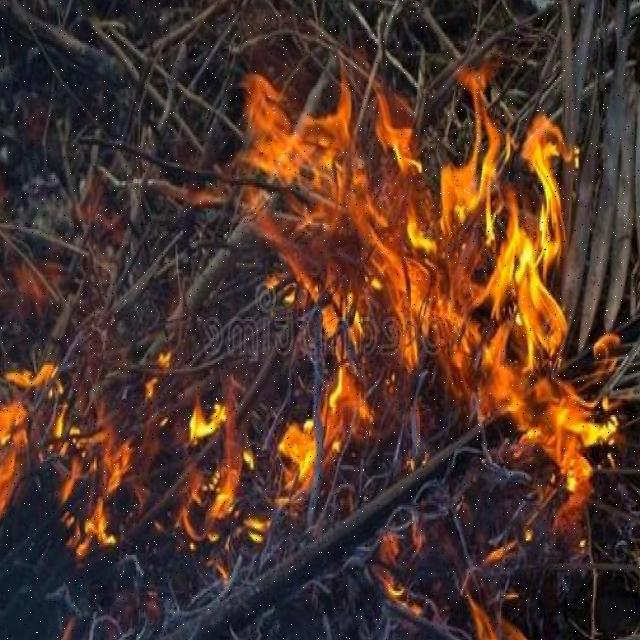fire: (226, 71, 593, 489), (0, 367, 333, 566)
